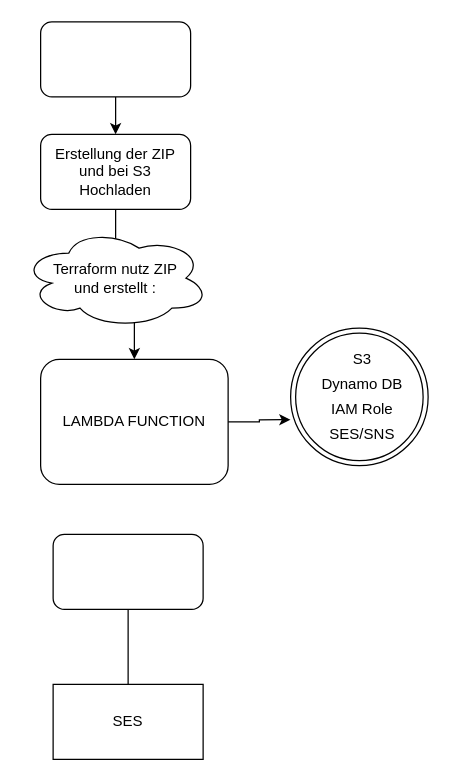
This 450x781 diagram has some shape labels left out. Each missing label, with the centre of its shape:
"Deployment" goes at [115,59].
"Initialisierung" goes at [127,571].
